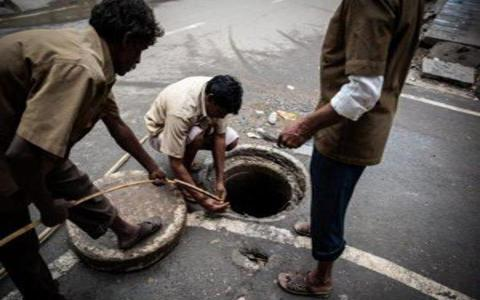open manhole: (209, 148, 311, 228)
